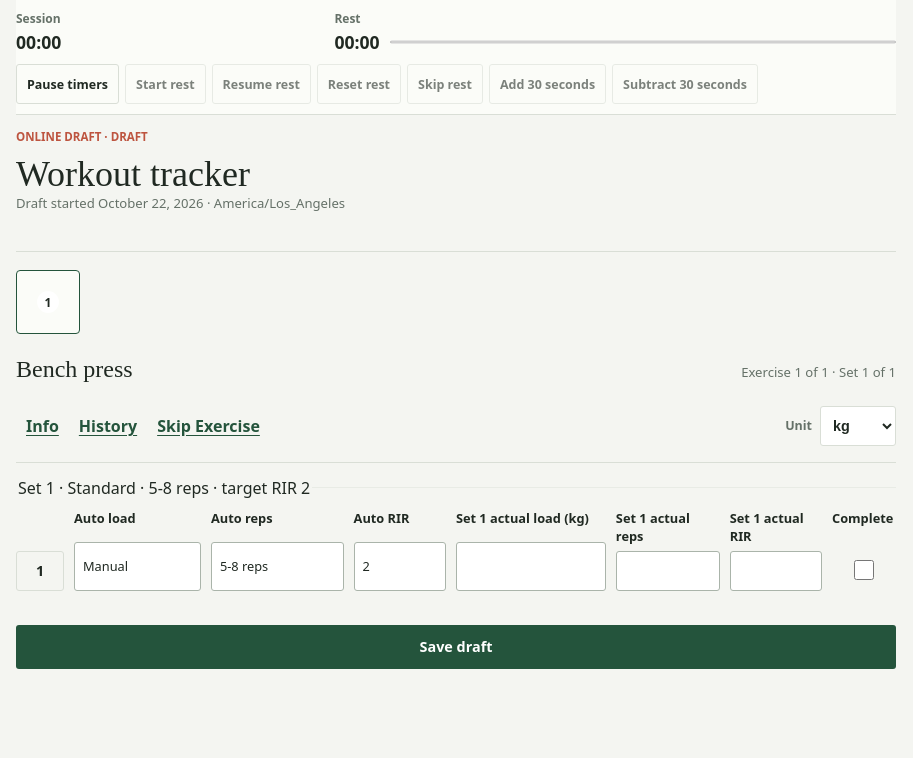
Test: preserves visible unsaved set input after failure and retries the same request
In the number field labelled "Set 1 actual load (kg)": coordinates (531, 566) [456,542,606,591], type "42.5"
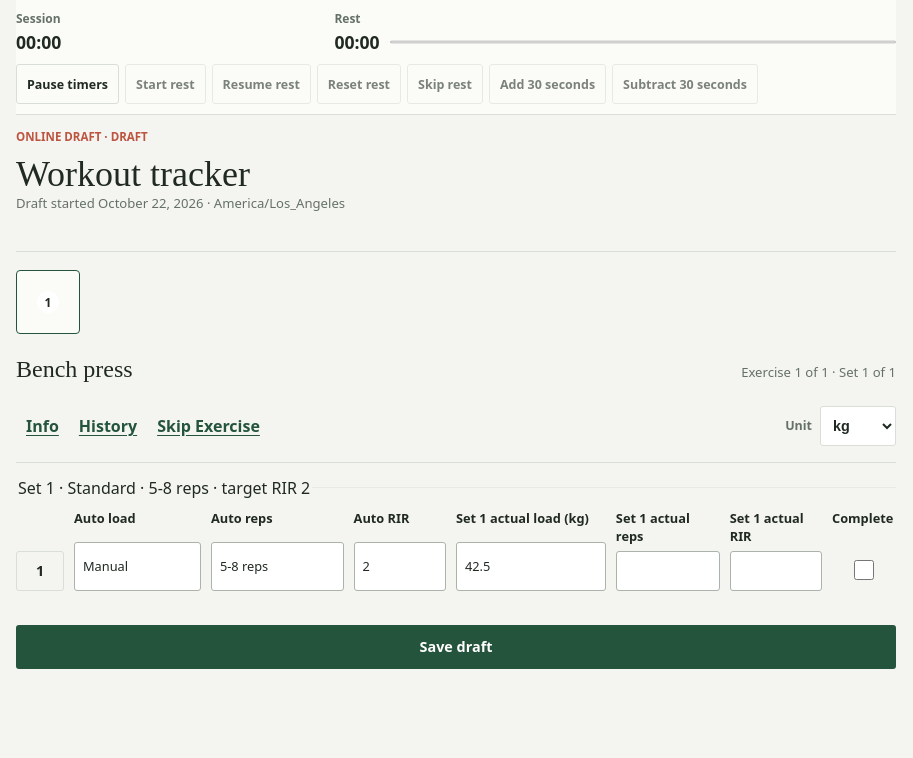
In the number field labelled "Set 1 actual reps": coordinates (668, 571) [616,551,720,591], type "6"
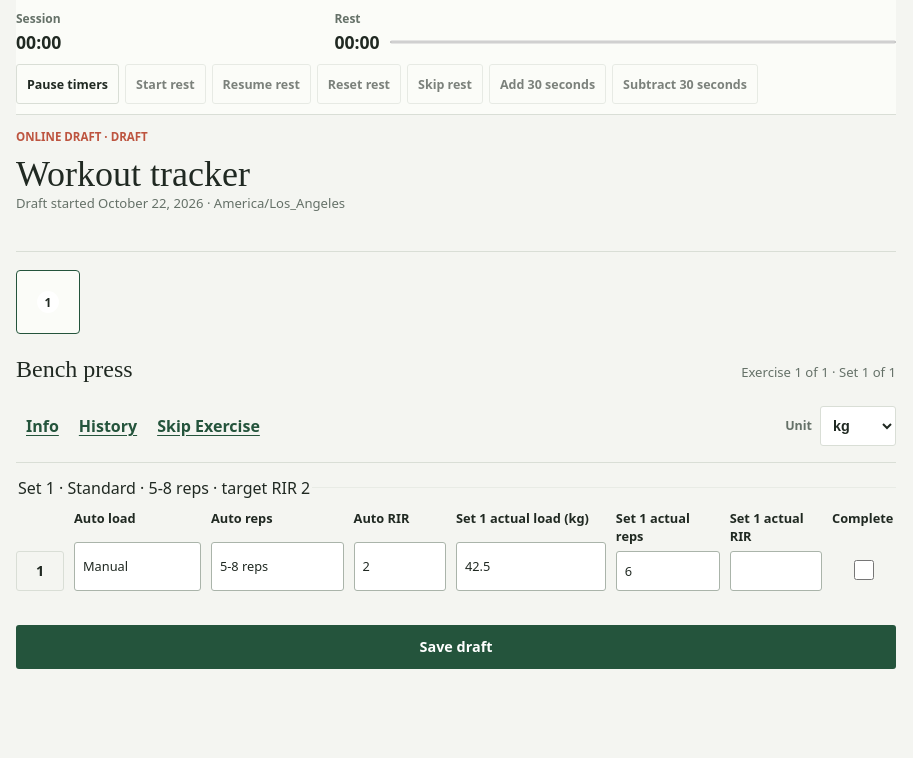
In the number field labelled "Set 1 actual RIR": coordinates (776, 571) [730,551,822,591], type "2"
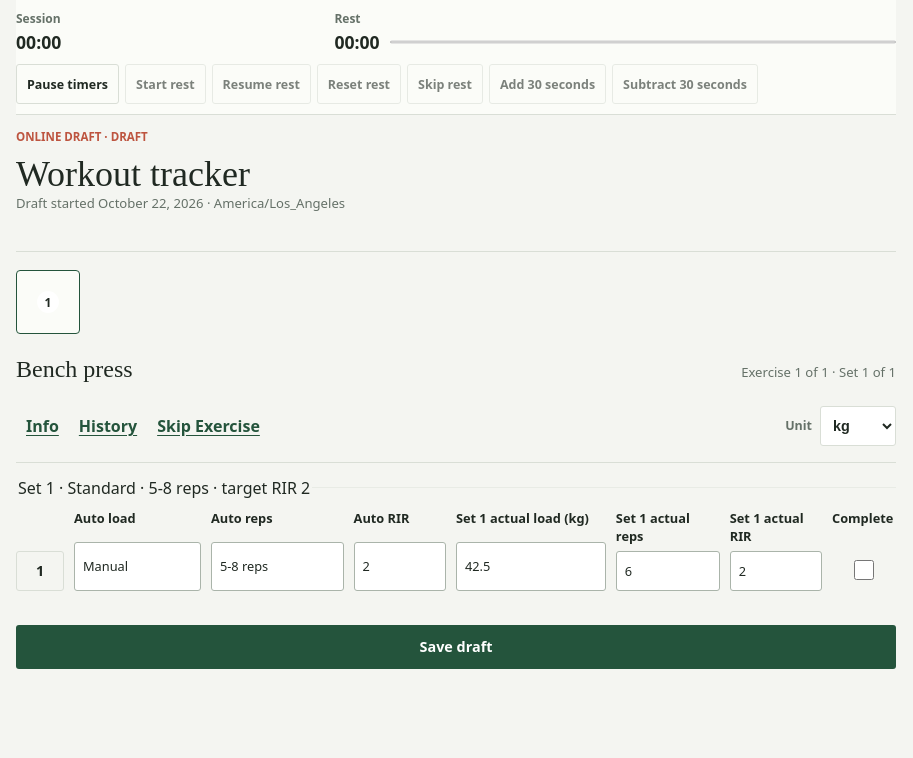
Click the button "Save draft": coordinates (456, 647) [16,625,896,669]
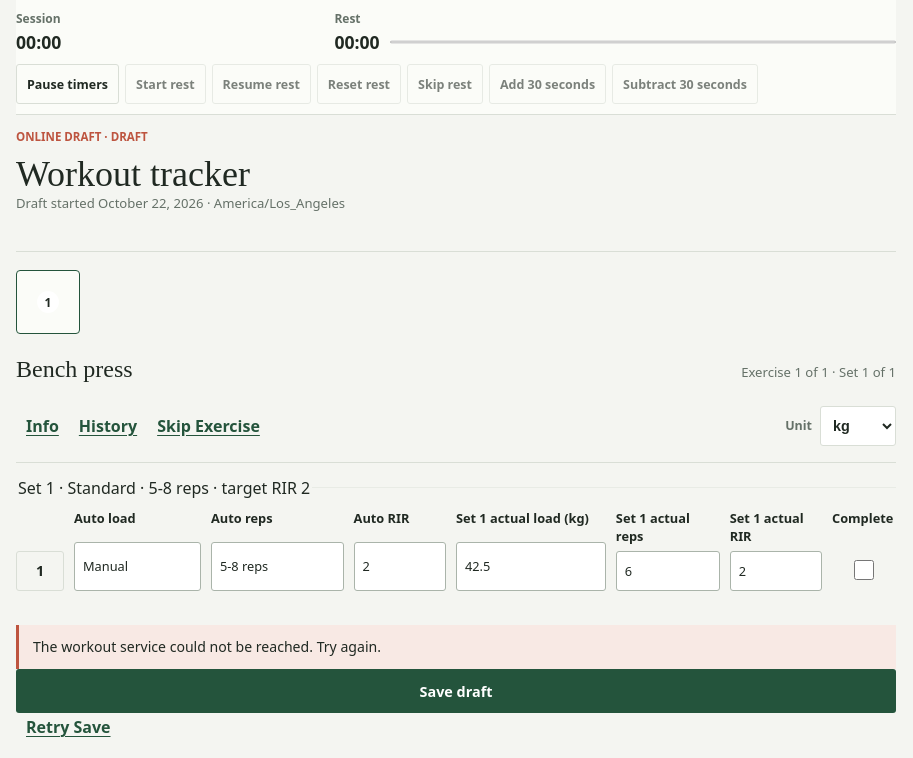
Expected: the text "Draft saved." is not shown
Result: the message shows "Try again" at [33,637,381,656]
Click the button "Retry Save": coordinates (68, 727) [24,713,112,741]
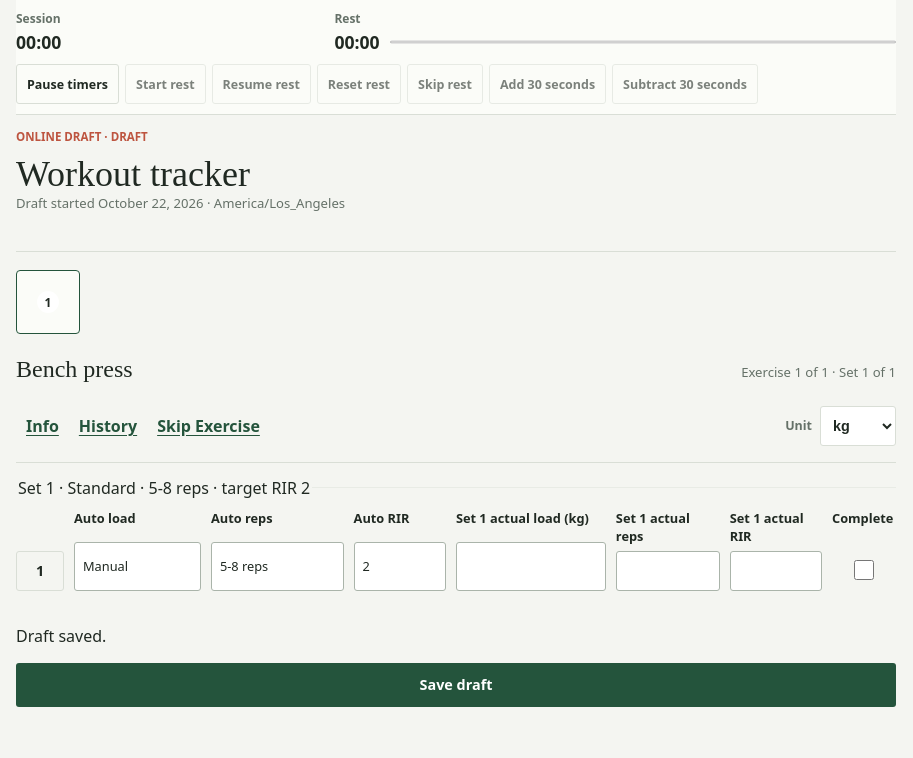
Result: the text "Draft saved." is shown at [16,625,106,647]
